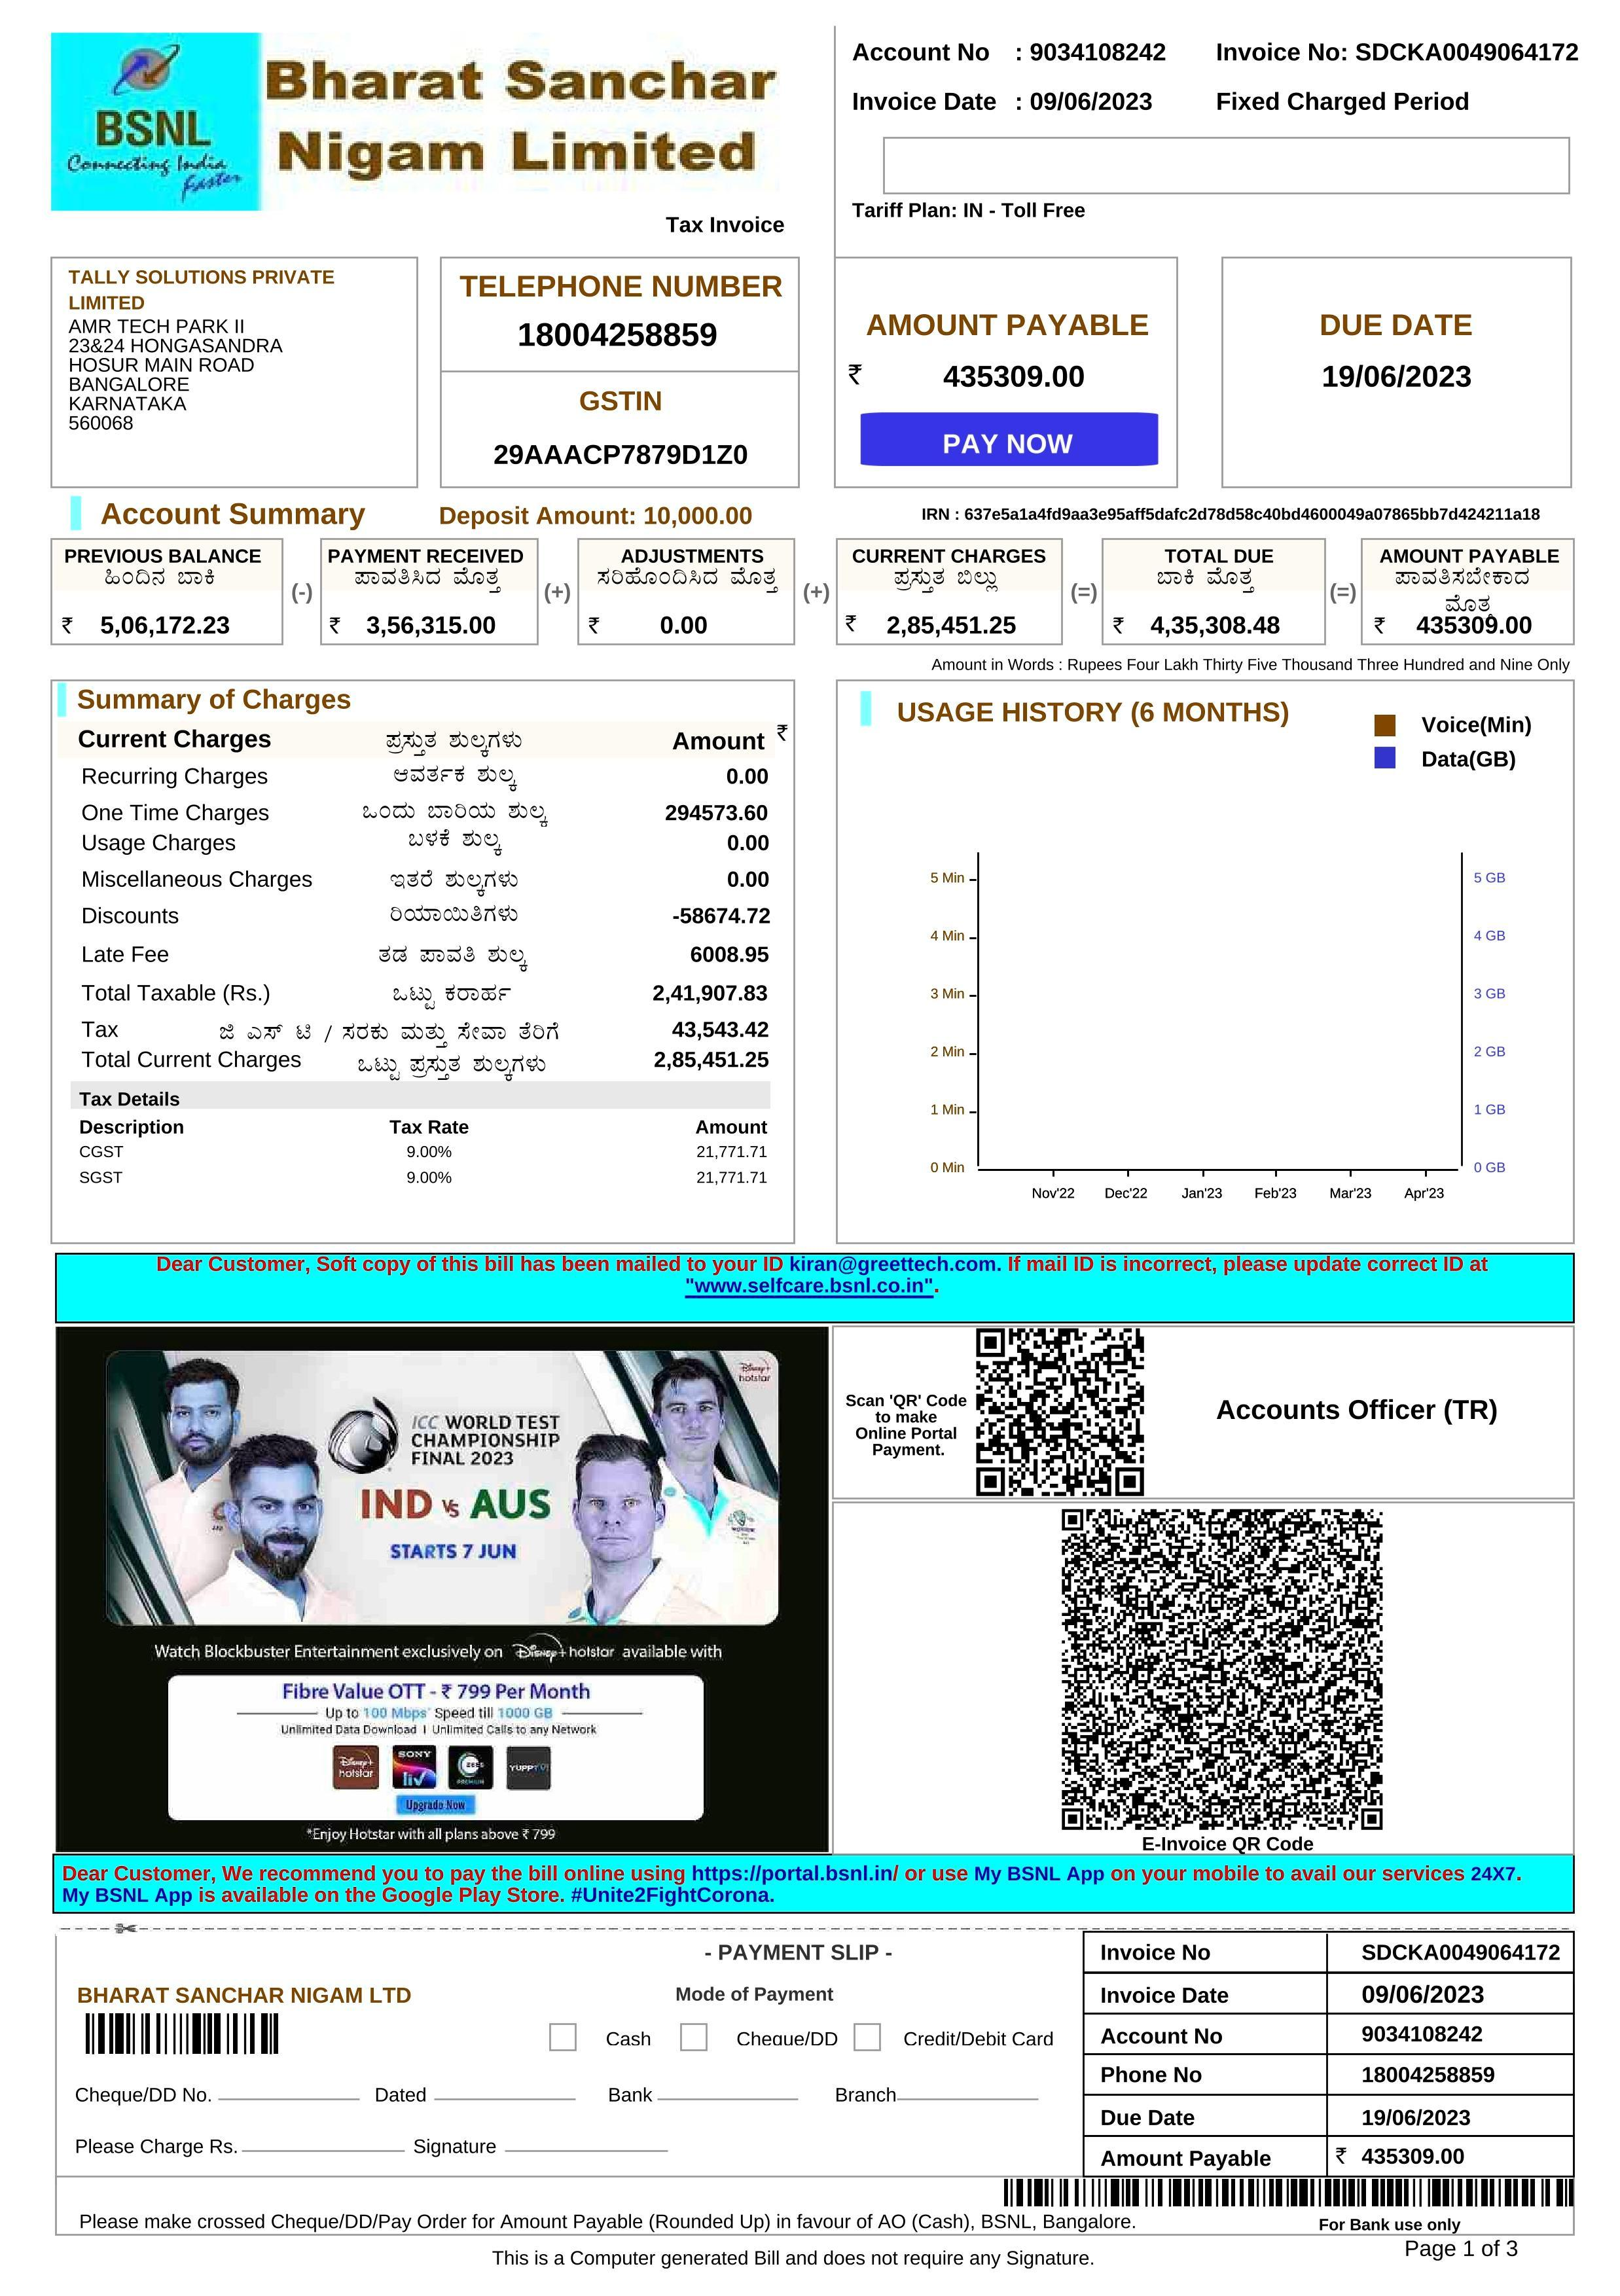InvoiceDate: (1022, 75, 1159, 135)
InvoiceNumber: (1346, 26, 1588, 72)
TotalAmount: (922, 347, 1101, 405)
